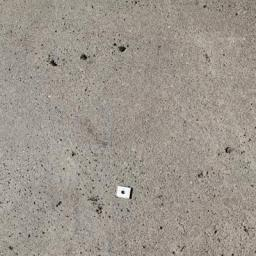FOD: (113, 182, 136, 204)
